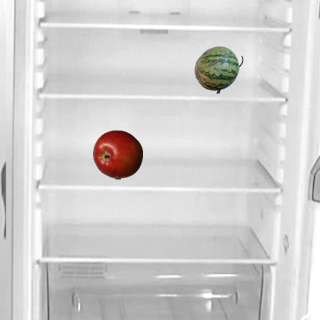Apple Braeburn: (92, 129, 142, 179)
Watermelon: (193, 44, 243, 94)
